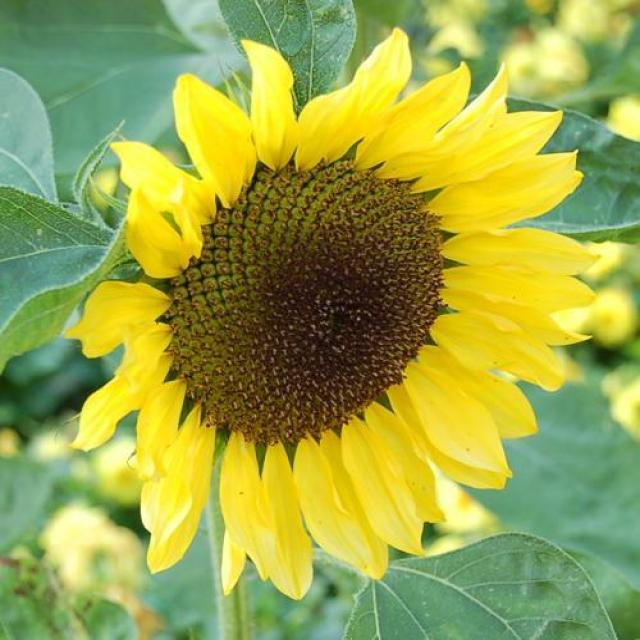sunflower: (67, 34, 606, 605)
